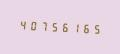five: (47, 19, 56, 33), (87, 21, 96, 35)
four: (17, 17, 26, 32)
one: (67, 20, 76, 34)
seven: (37, 18, 46, 33)
six: (57, 19, 66, 34), (77, 20, 86, 35)
zero: (27, 18, 36, 32)
